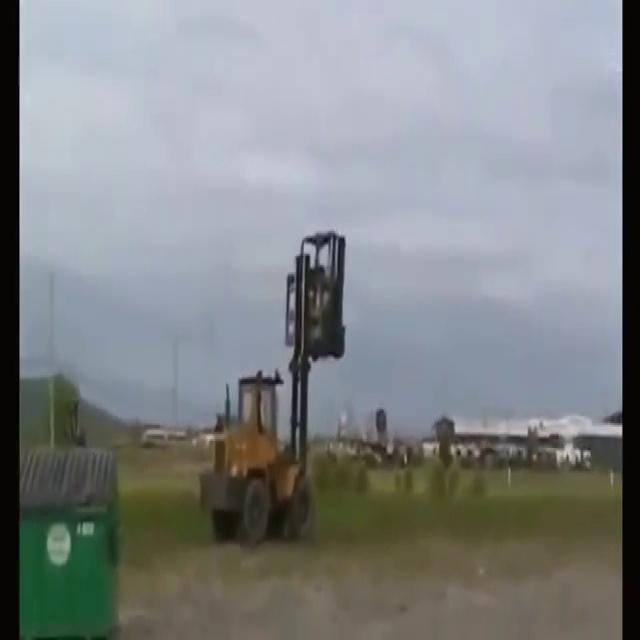Chariot elevateur: (201, 227, 352, 553)
